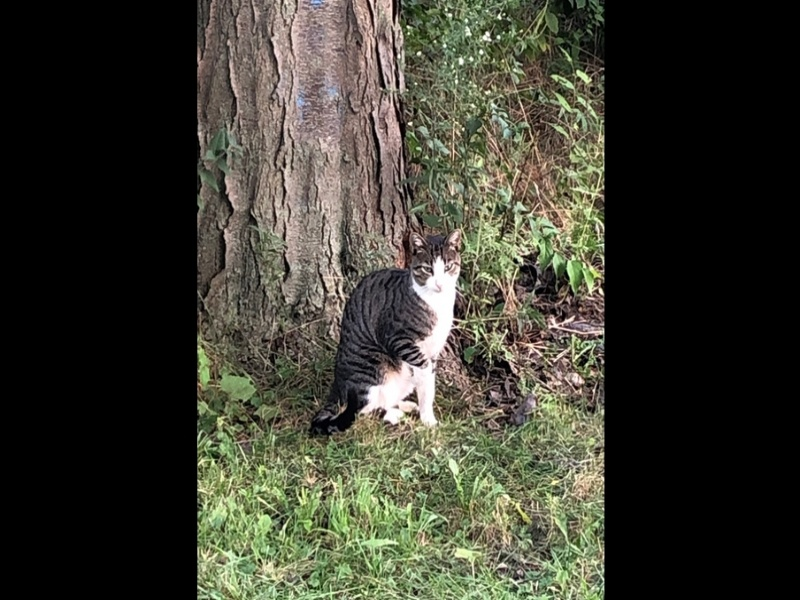cat: (307, 225, 467, 439)
